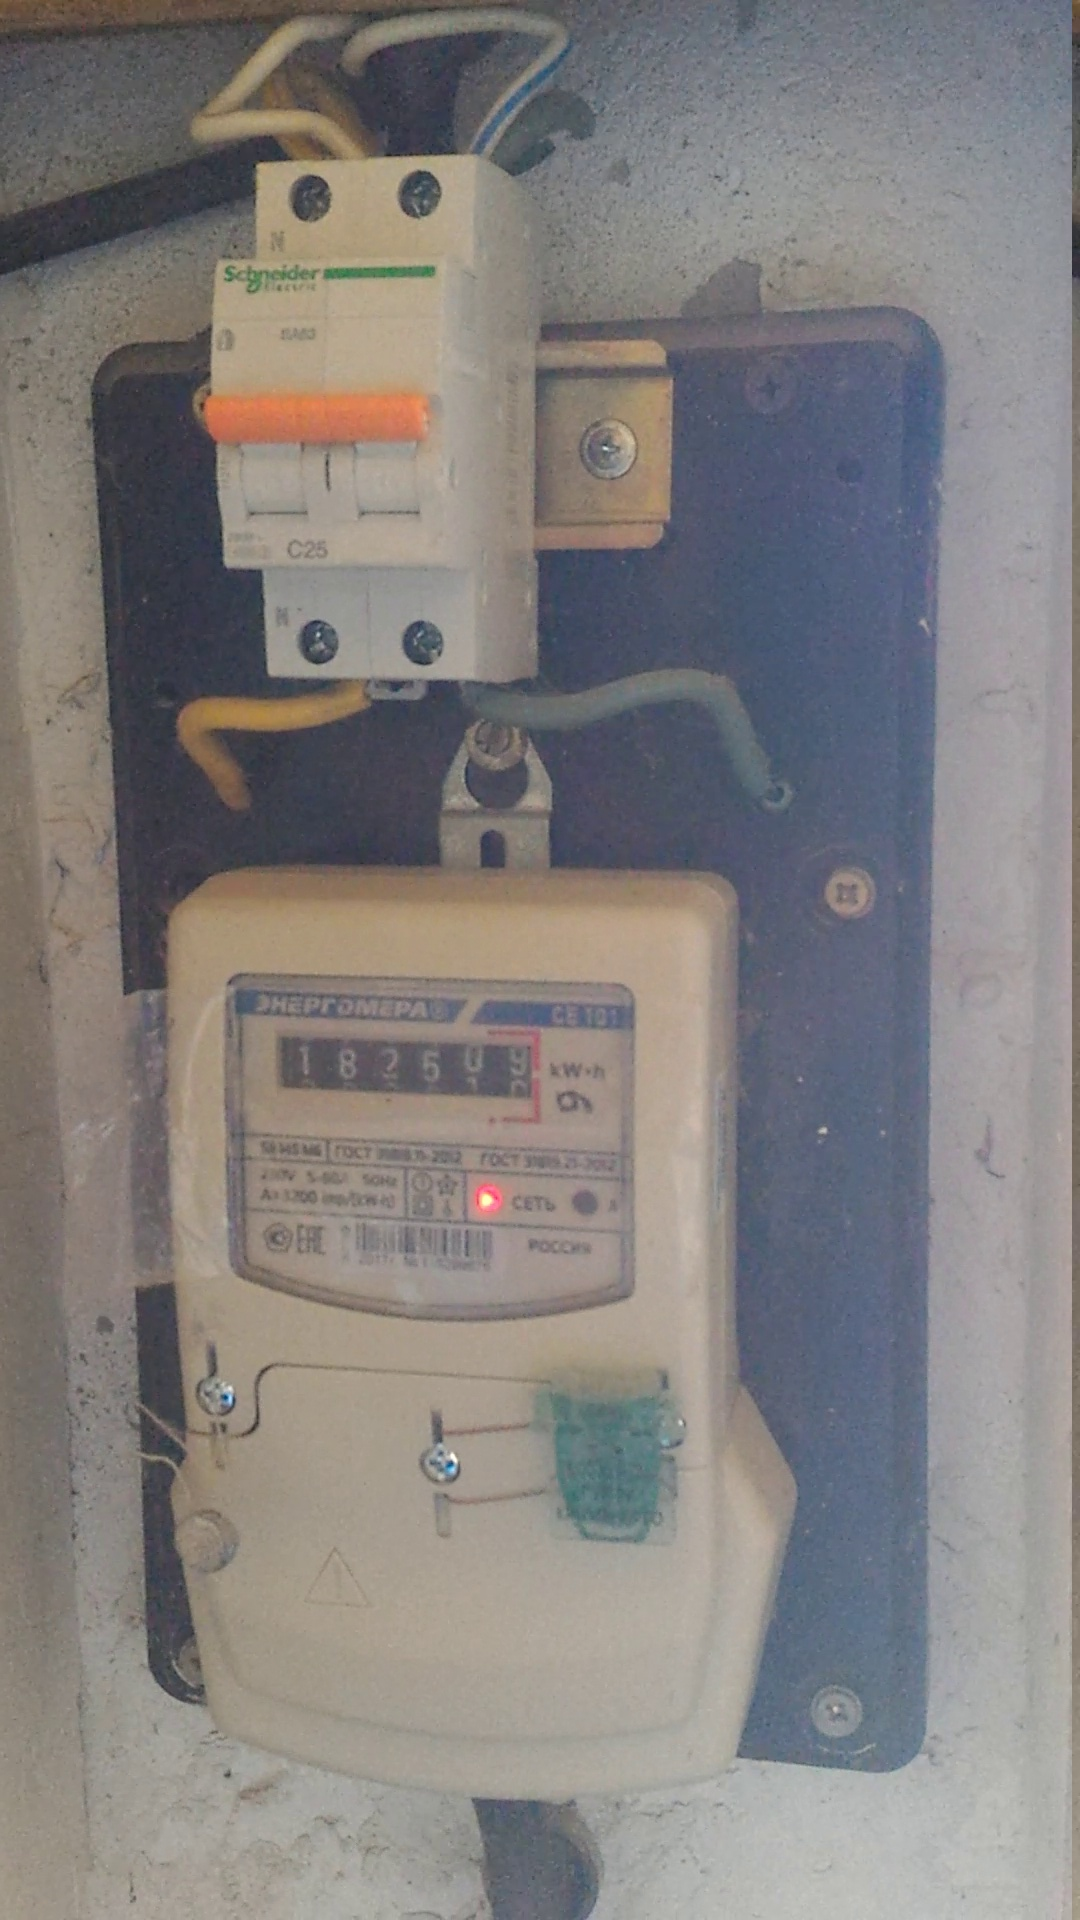counter: (167, 895, 742, 1796)
counter_screen: (277, 1033, 537, 1102)
